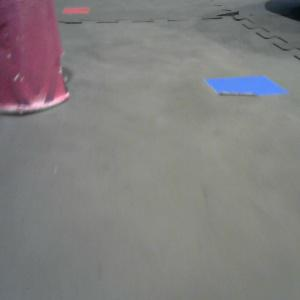middle: (1, 1, 70, 114)
